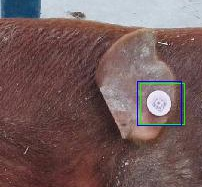text: (140, 83, 184, 124)
